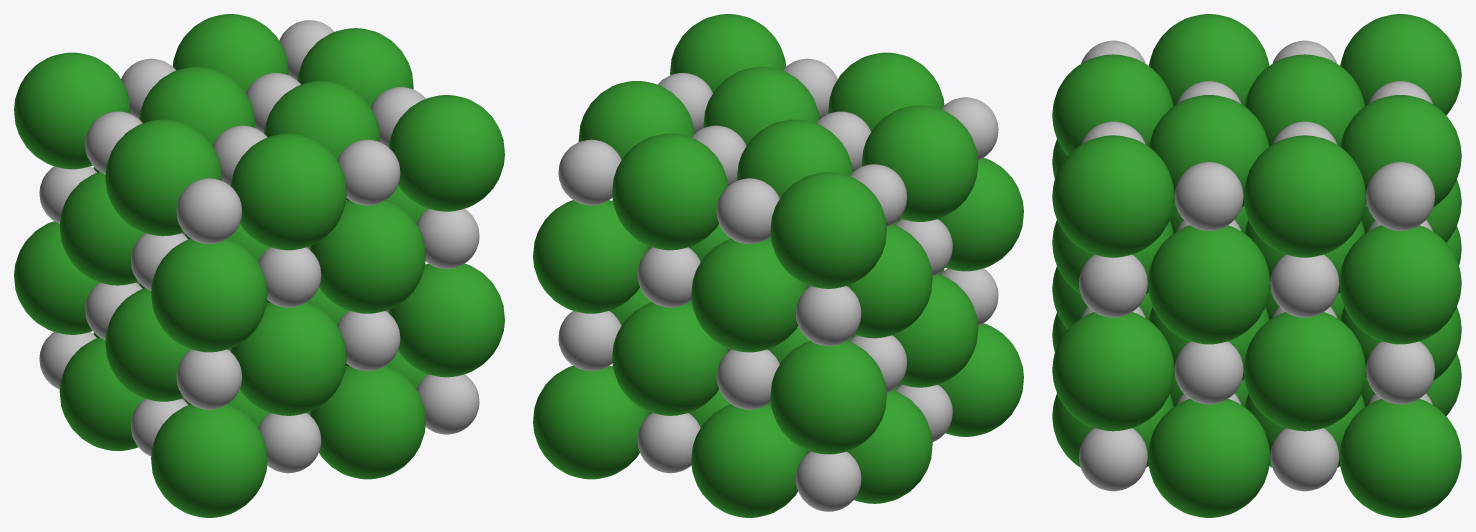
Rendered from nacl_gitter.glb.
The picture shows the model from 3 angles, left to right: view 1: azimuth 30°, elevation 25°; view 2: azimuth 150°, elevation 25°; view 3: azimuth 270°, elevation 25°; orthographic projection. The views are drawn at different scales.
Parts seen in each view (by area): view 1: Cl_000, Cl_002, Cl_303, Cl_103, Cl_101, Cl_301, Cl_202, Cl_200, Cl_033, Cl_013, Cl_022, Cl_011 (+30 smaller); view 2: Cl_033, Cl_031, Cl_233, Cl_330, Cl_130, Cl_231, Cl_132, Cl_332, Cl_013, Cl_002, Cl_011, Cl_020 (+29 smaller); view 3: Cl_303, Cl_323, Cl_312, Cl_321, Cl_301, Cl_310, Cl_332, Cl_330, Cl_233, Cl_103, Cl_033, Cl_213 (+25 smaller).
Part boxes in pixels (bbox=[...]): Cl_000: bbox=[151, 404, 267, 517]; Cl_002: bbox=[151, 238, 267, 352]; Cl_303: bbox=[389, 95, 504, 211]; Cl_103: bbox=[230, 133, 346, 250]; Cl_101: bbox=[230, 302, 346, 415]; Cl_301: bbox=[389, 263, 504, 377]; Cl_202: bbox=[309, 200, 425, 313]; Cl_200: bbox=[309, 365, 425, 479]; Cl_033: bbox=[14, 52, 130, 169]; Cl_013: bbox=[105, 119, 221, 236]; Cl_022: bbox=[59, 172, 145, 285]; Cl_011: bbox=[105, 288, 190, 401]; Cl_033: bbox=[770, 172, 886, 288]; Cl_031: bbox=[770, 341, 886, 454]; Cl_233: bbox=[612, 133, 728, 250]; Cl_330: bbox=[533, 365, 648, 479]; Cl_130: bbox=[691, 404, 807, 517]; Cl_231: bbox=[612, 302, 728, 415]; Cl_132: bbox=[691, 238, 807, 352]; Cl_332: bbox=[533, 200, 648, 313]; Cl_013: bbox=[861, 105, 978, 221]; Cl_002: bbox=[938, 157, 1023, 271]; Cl_011: bbox=[893, 274, 978, 387]; Cl_020: bbox=[847, 390, 932, 503]; Cl_303: bbox=[1052, 135, 1174, 257]; Cl_323: bbox=[1243, 135, 1365, 257]; Cl_312: bbox=[1148, 225, 1270, 344]; Cl_321: bbox=[1243, 312, 1365, 431]; Cl_301: bbox=[1052, 312, 1174, 431]; Cl_310: bbox=[1148, 399, 1270, 517]; Cl_332: bbox=[1339, 225, 1461, 344]; Cl_330: bbox=[1339, 399, 1461, 517]; Cl_233: bbox=[1340, 95, 1461, 207]; Cl_103: bbox=[1052, 54, 1173, 155]; Cl_033: bbox=[1340, 14, 1461, 115]; Cl_213: bbox=[1149, 95, 1269, 207].
Size of the model in its own units: 0.15 by 0.15 by 0.15.
